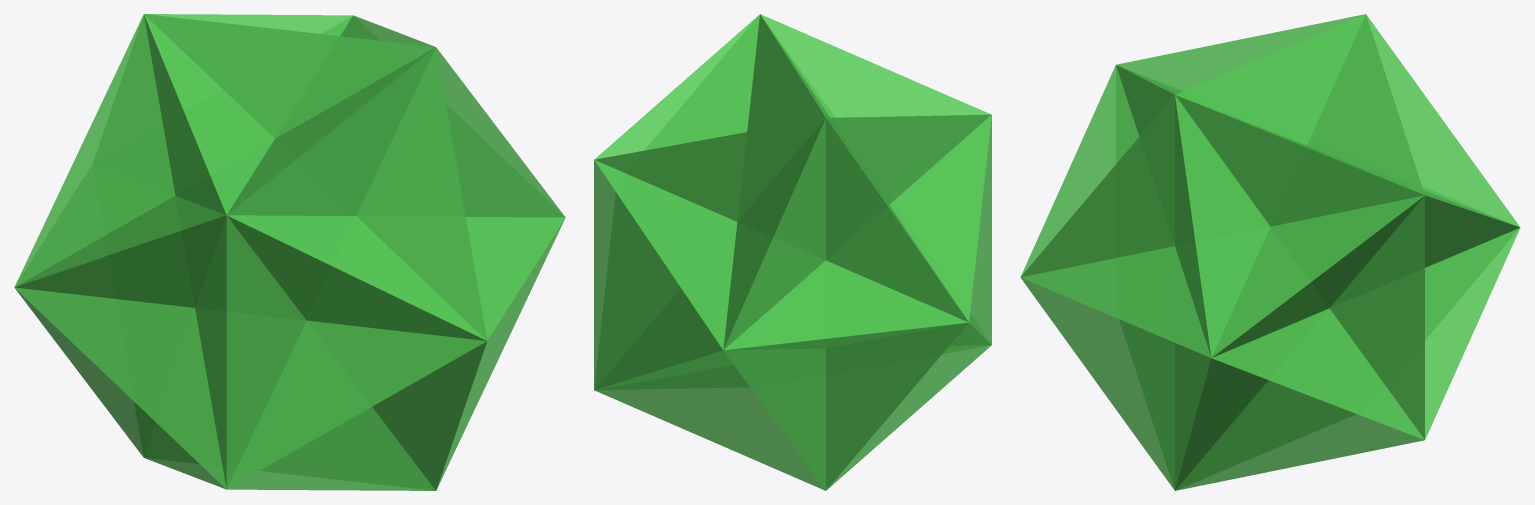
Rendered from fractalgreatdodecahedron0.glb.
3 renders of one model, left to right at view 1: azimuth 30°, elevation 25°; view 2: azimuth 150°, elevation 25°; view 3: azimuth 270°, elevation 25°, orthographic. The views are drawn at different scales.
Size of the model in its own units: 12.1 by 10.57 by 12.1.
